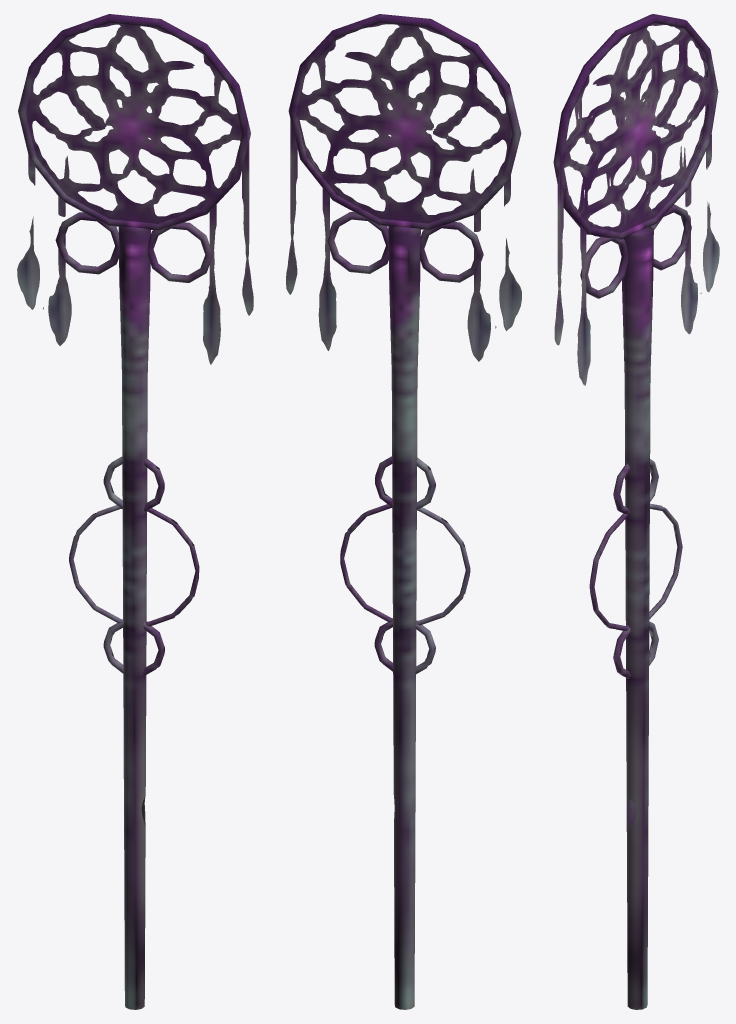
File: Staff Legendary 2.fbx
3 renders of one model, left to right at view 1: azimuth 30°, elevation 25°; view 2: azimuth 210°, elevation 25°; view 3: azimuth 270°, elevation 25°, orthographic.
Parts seen in each view (by area): view 1: Mage_stave_rack.002; view 2: Mage_stave_rack.002; view 3: Mage_stave_rack.002.
Boxes of the visible parts, x1,y1,x2,y2 form: Mage_stave_rack.002: [17, 14, 253, 1009]; Mage_stave_rack.002: [286, 14, 521, 1009]; Mage_stave_rack.002: [553, 14, 719, 1009].
Size of the model in its own units: 0.3192 by 1.91 by 0.2971.
